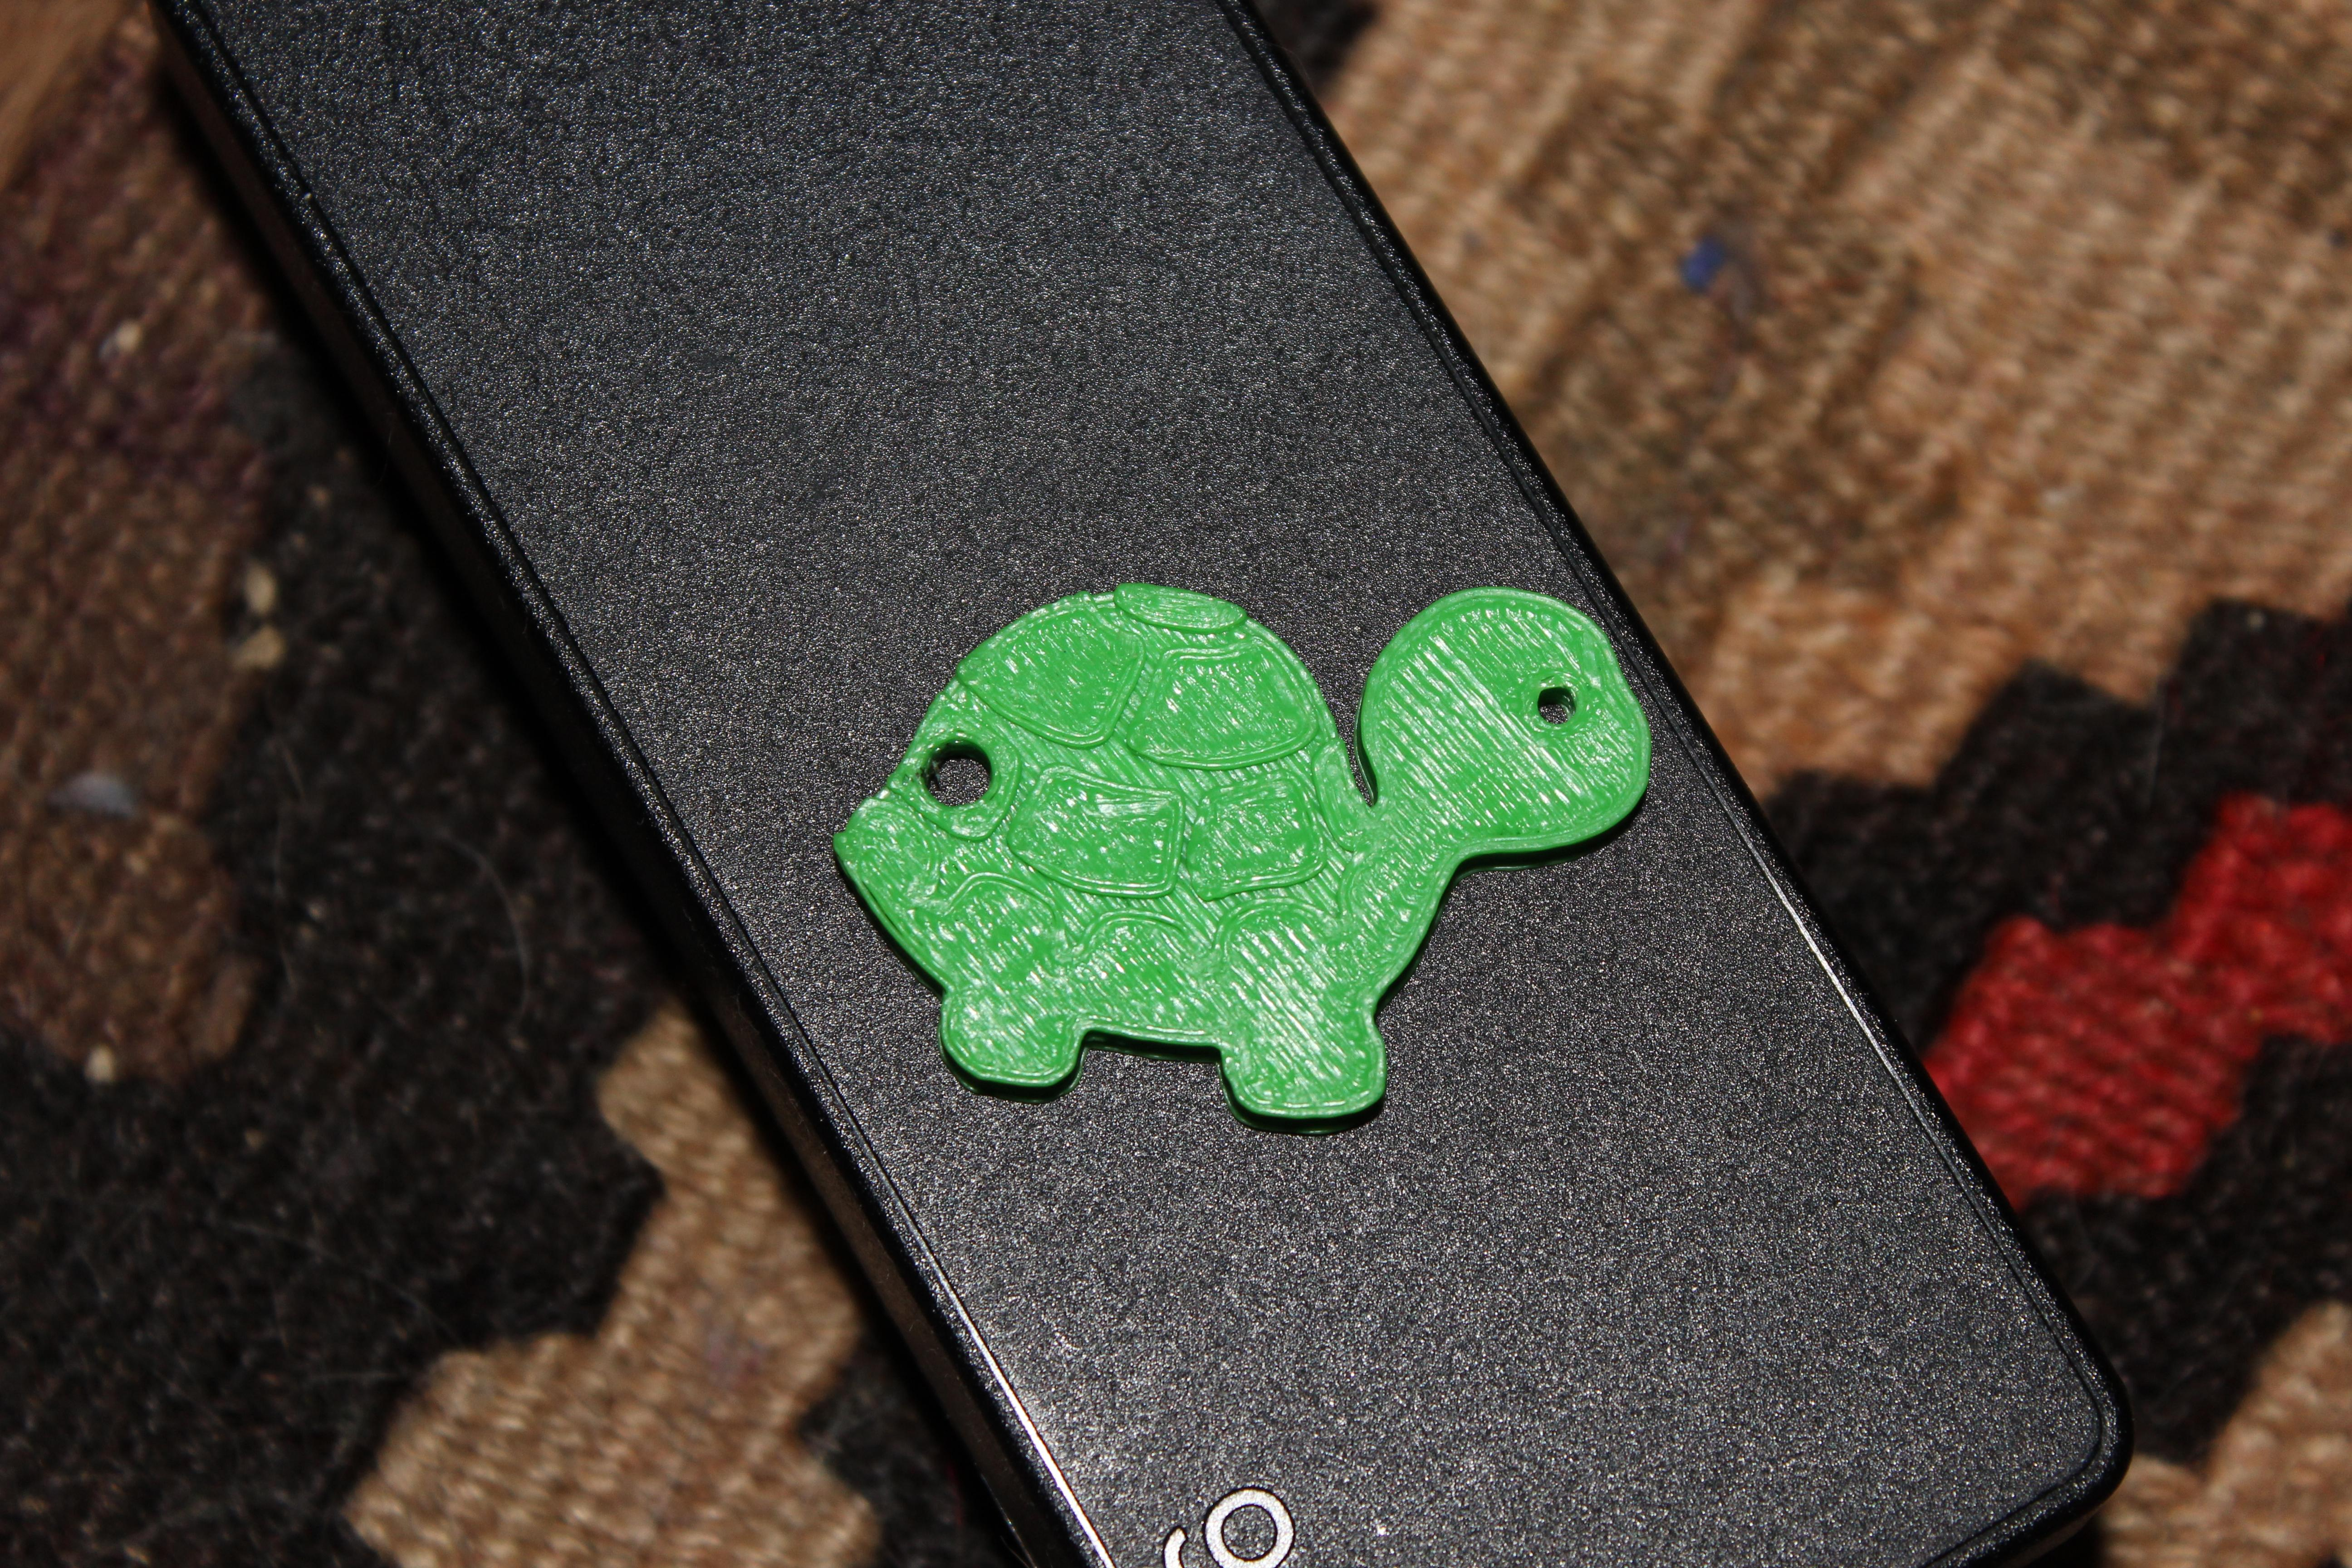turtle: (798, 548, 1690, 1166)
